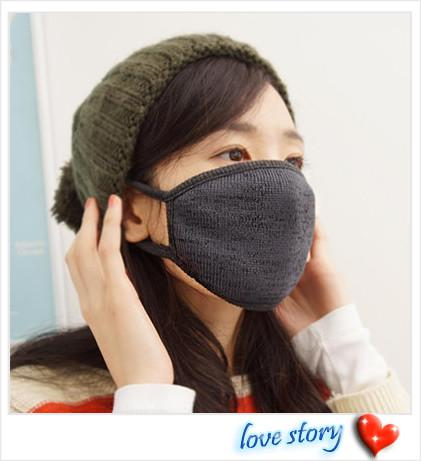OK: (133, 118, 315, 314)
